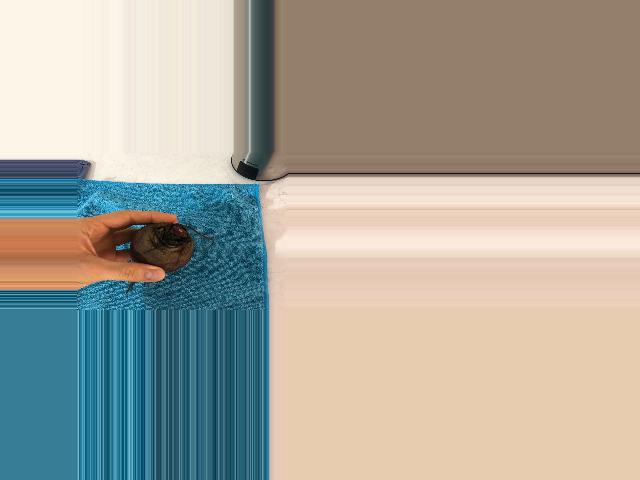beet: (126, 223, 213, 294)
